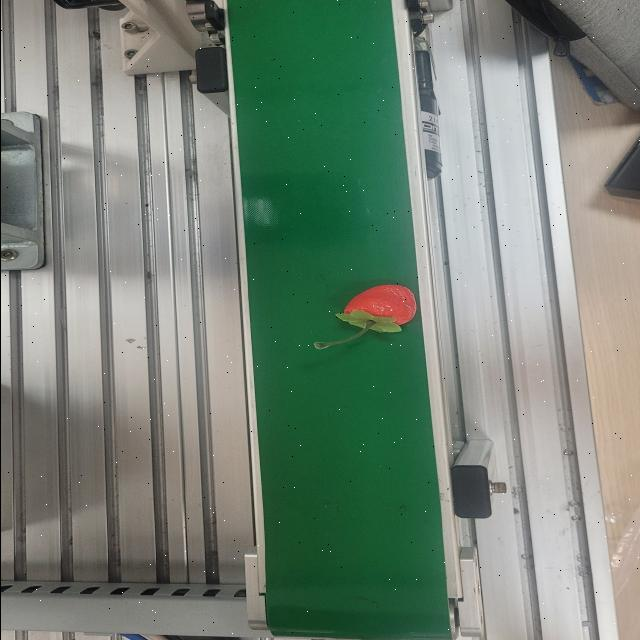Small Ripe Strawberry: (308, 282, 422, 352)
conveyor: (221, 0, 457, 640)
